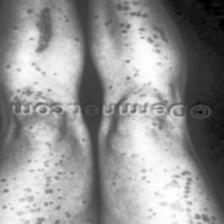Non-Cancerous Skin Condition: (32, 3, 54, 54), (161, 215, 224, 224), (152, 198, 192, 212), (42, 188, 51, 194), (52, 175, 60, 180)
